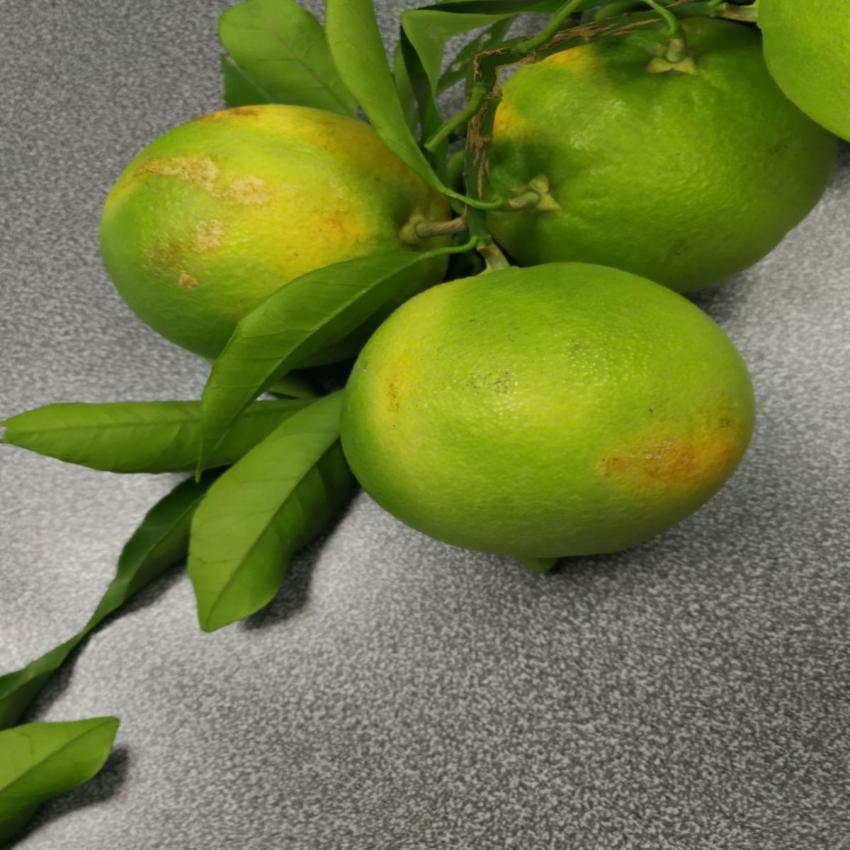Mal estado: (324, 248, 781, 582), (92, 91, 460, 395)
